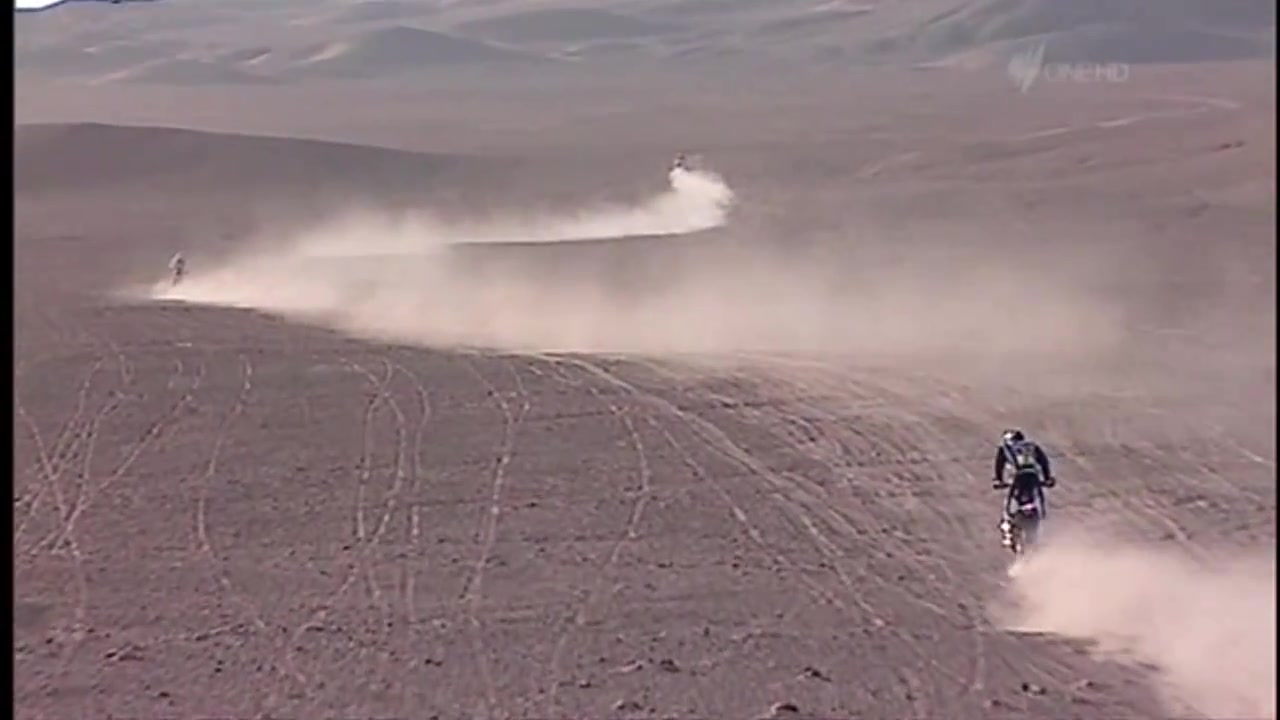motorbike: (993, 470, 1057, 562)
